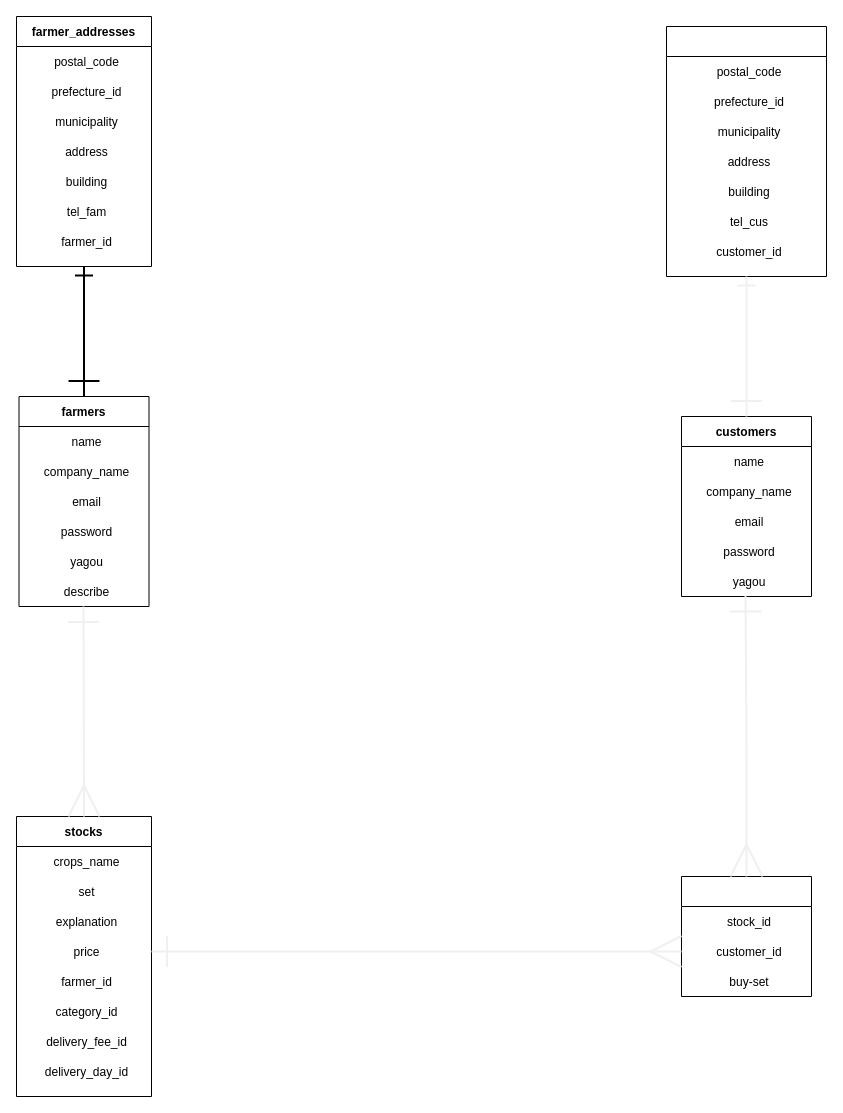
Image size: 843x1113. Some labels were removed from this diagram. The shapes that lost their labels are listed below. From the top down, each one's box as (x1, y1, x2, y2) in pixels, then its label:
(666, 26, 826, 276): customer_addresses
(680, 876, 812, 996): stock_customers
